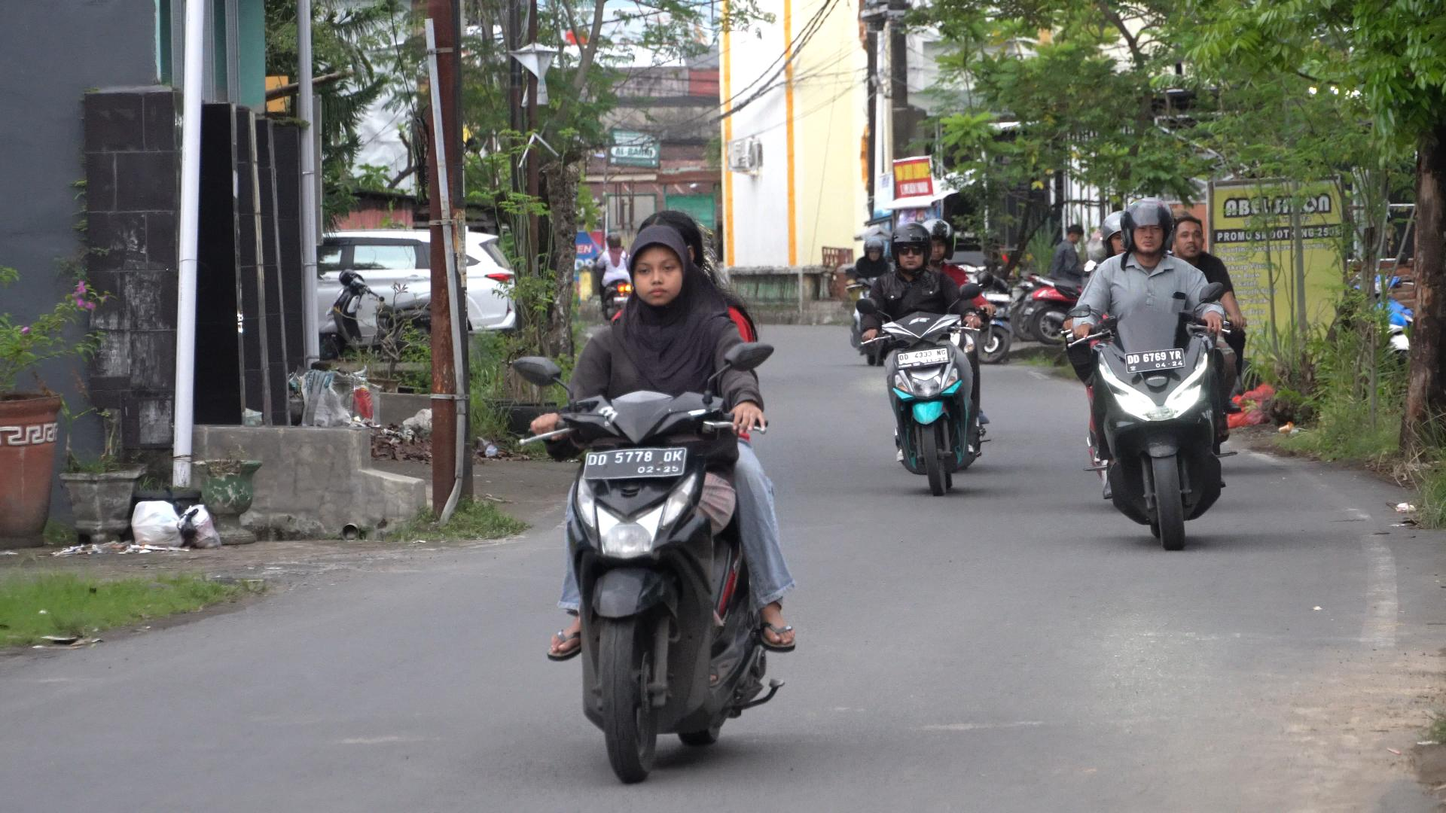number-plate: (583, 449, 686, 483), (1124, 346, 1186, 376), (895, 345, 951, 368)
